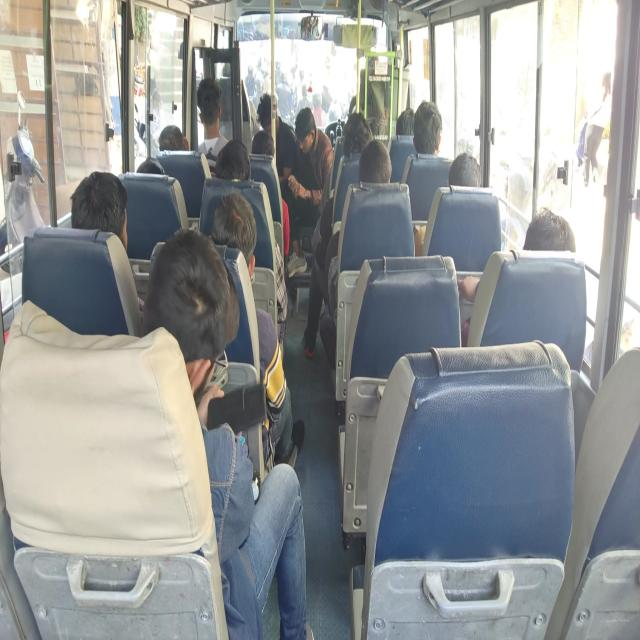person: (157, 223, 217, 348), (64, 166, 118, 244), (524, 200, 579, 273), (212, 181, 260, 248), (450, 153, 487, 217), (287, 104, 331, 151), (144, 115, 194, 151), (212, 148, 258, 186), (355, 140, 388, 191), (414, 100, 446, 150), (202, 84, 236, 129), (346, 112, 379, 156), (123, 150, 159, 186), (252, 95, 281, 127), (398, 102, 414, 130), (254, 137, 274, 154)
